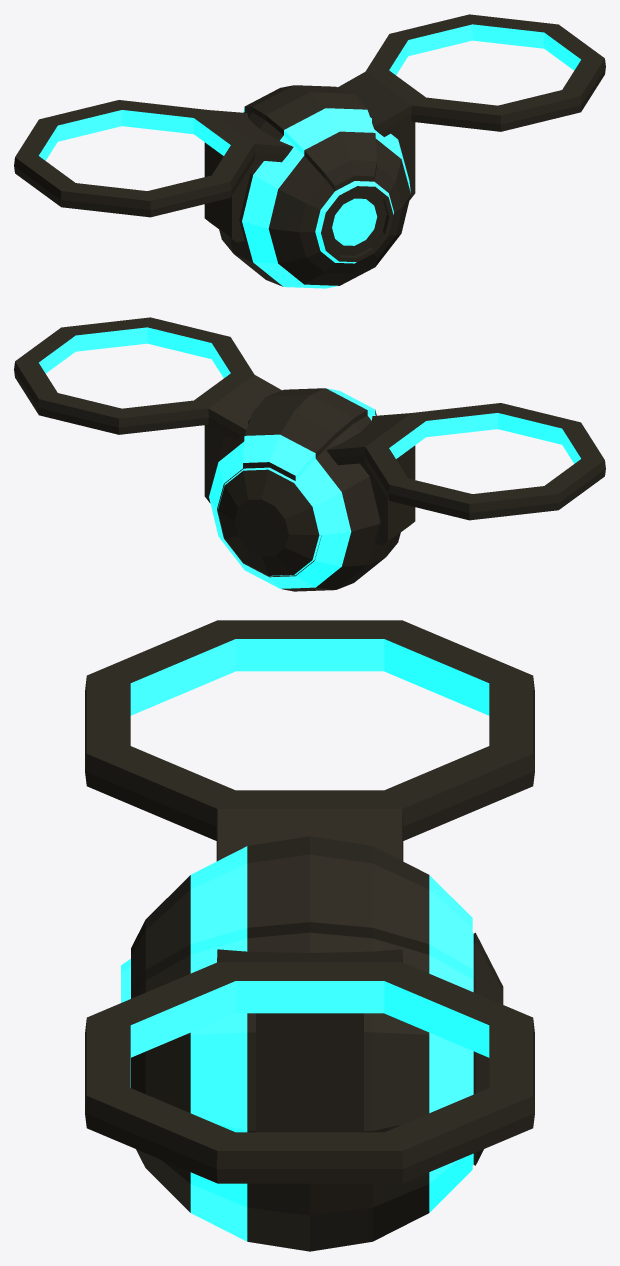
Rendered from Drone_02.fbx.
3 renders of one model, top to bottom at view 1: azimuth 30°, elevation 25°; view 2: azimuth 150°, elevation 25°; view 3: azimuth 270°, elevation 25°, orthographic. The views are drawn at different scales.
Parts seen in each view (by area): view 1: Drone_02; view 2: Drone_02; view 3: Drone_02.
Boxes of the visible parts, left/top/right/bottom form: Drone_02: left=14, top=14, right=605, bottom=288; Drone_02: left=14, top=317, right=605, bottom=591; Drone_02: left=85, top=620, right=534, bottom=1251.
Bounding box in the file's own units: 1847 × 613 × 660.
